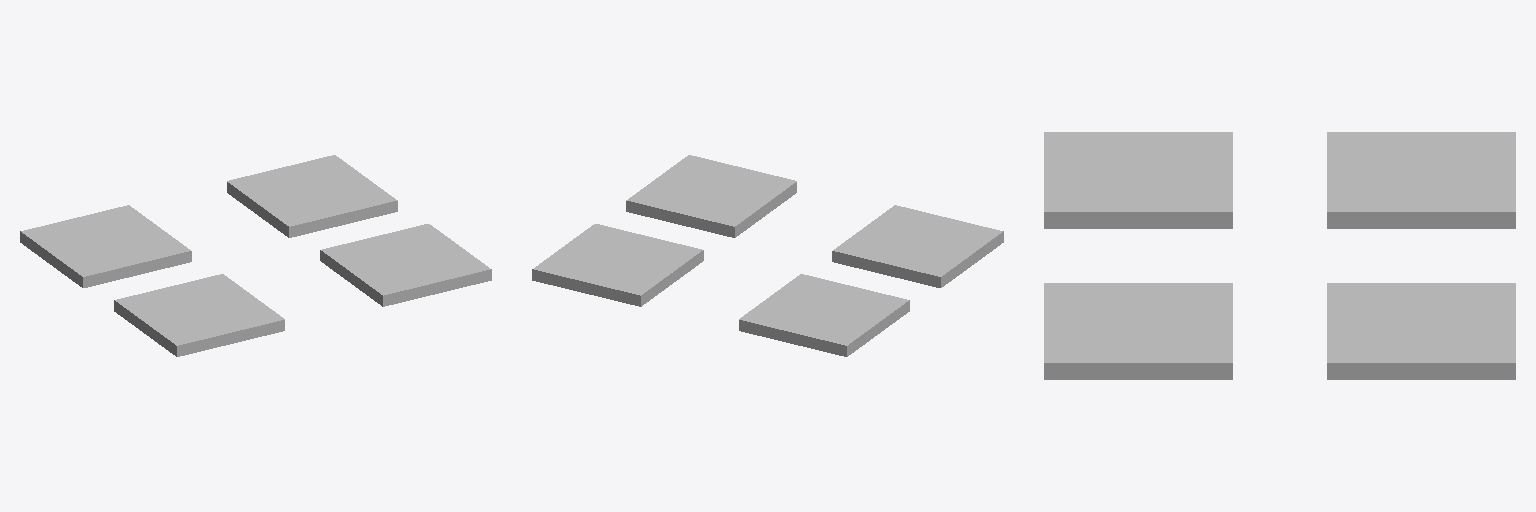
The robot description file, URDF, robot "plane":
<?xml version="1.0" ?>
<!-- =================================================================================== -->
<!-- |    This document was autogenerated by xacro from plane_with_restitution.urdf.xacro | -->
<!-- |    EDITING THIS FILE BY HAND IS NOT RECOMMENDED                                 | -->
<!-- =================================================================================== -->
<robot name="plane">
  <link name="planeLink">
    <contact>
      <lateral_friction value="1000.0"/>
      <restitution value="0.0"/>
    </contact>
    <inertial>
      <origin rpy="0 0 0" xyz="0 0 0"/>
      <mass value=".0"/>
      <inertia ixx="0" ixy="0" ixz="0" iyy="0" iyz="0" izz="0"/>
    </inertial>
    <visual>
      <origin rpy="0 0 0" xyz="0.0 0.0 -0.5"/>
      <geometry>
        <mesh filename="meshes/plane.obj" scale="1 1 1"/>
      </geometry>
      <material name="white">
        <color rgba="1 1 1 1"/>
      </material>
    </visual>
    <collision>
      <origin rpy="0 0 0" xyz="0.0 0.0 -5.5"/>
      <geometry>
        <box size="30 30 10"/>
      </geometry>
    </collision>
  </link>
    <joint name="disk_joint_000" type="prismatic">
    <parent link="planeLink"/>
    <child link="disk_link_000"/>
    <limit effort="1000" lower="-10" upper="10" velocity="100000"/>
    <axis xyz="0 0 1"/>
    <origin rpy="0 0 0" xyz="0.19 0.15 0"/>
  </joint>
  <link name="disk_link_000">
    <contact>
        <lateral_friction value="1000.0"/>
        <restitution value="0.0"/>
    </contact>
    <inertial>
      <origin rpy="0 0 0" xyz="0 0 0"/>
       <mass value="1.0"/>
       <inertia ixx="0" ixy="0" ixz="0" iyy="0" iyz="0" izz="0"/>
    </inertial>
    <collision>
      <origin rpy="0 0 0" xyz="0 0 -0.01"/>
      <geometry>
        <box size="0.2 0.2 0.02"/>
      </geometry>
      <material name="white">
        <color rgba="1 1 1 1"/>
      </material>
    </collision>
    <visual>
      <origin rpy="0 0 0" xyz="0 0 -0.01"/>
      <geometry>
        <box size="0.2 0.2 0.02"/>
      </geometry>
      <material name="grey">
        <color rgba="0.8 0.8 0.8 1.0"/>
      </material>
    </visual>
  </link>
  <joint name="disk_joint_001" type="prismatic">
    <parent link="planeLink"/>
    <child link="disk_link_001"/>
    <limit effort="1000" lower="-10" upper="10" velocity="100000"/>
    <axis xyz="0 0 1"/>
    <origin rpy="0 0 0" xyz="0.19 -0.15 0"/>
  </joint>
  <link name="disk_link_001">
    <contact>
        <lateral_friction value="1000.0"/>
        <restitution value="0.0"/>
    </contact>
    <inertial>
      <origin rpy="0 0 0" xyz="0 0 0"/>
       <mass value="1.0"/>
       <inertia ixx="0" ixy="0" ixz="0" iyy="0" iyz="0" izz="0"/>
    </inertial>
    <collision>
      <origin rpy="0 0 0" xyz="0 0 -0.01"/>
      <geometry>
        <box size="0.2 0.2 0.02"/>
      </geometry>
      <material name="white">
        <color rgba="1 1 1 1"/>
      </material>
    </collision>
    <visual>
      <origin rpy="0 0 0" xyz="0 0 -0.01"/>
      <geometry>
        <box size="0.2 0.2 0.02"/>
      </geometry>
      <material name="grey">
        <color rgba="0.8 0.8 0.8 1.0"/>
      </material>
    </visual>
  </link>
  <joint name="disk_joint_002" type="prismatic">
    <parent link="planeLink"/>
    <child link="disk_link_002"/>
    <limit effort="1000" lower="-10" upper="10" velocity="100000"/>
    <axis xyz="0 0 1"/>
    <origin rpy="0 0 0" xyz="-0.19 0.15 0"/>
  </joint>
  <link name="disk_link_002">
    <contact>
        <lateral_friction value="1000.0"/>
        <restitution value="0.0"/>
    </contact>
    <inertial>
      <origin rpy="0 0 0" xyz="0 0 0"/>
       <mass value="1.0"/>
       <inertia ixx="0" ixy="0" ixz="0" iyy="0" iyz="0" izz="0"/>
    </inertial>
    <collision>
      <origin rpy="0 0 0" xyz="0 0 -0.01"/>
      <geometry>
        <box size="0.2 0.2 0.02"/>
      </geometry>
      <material name="white">
        <color rgba="1 1 1 1"/>
      </material>
    </collision>
    <visual>
      <origin rpy="0 0 0" xyz="0 0 -0.01"/>
      <geometry>
        <box size="0.2 0.2 0.02"/>
      </geometry>
      <material name="grey">
        <color rgba="0.8 0.8 0.8 1.0"/>
      </material>
    </visual>
  </link>
  <joint name="disk_joint_003" type="prismatic">
    <parent link="planeLink"/>
    <child link="disk_link_003"/>
    <limit effort="1000" lower="-10" upper="10" velocity="100000"/>
    <axis xyz="0 0 1"/>
    <origin rpy="0 0 0" xyz="-0.19 -0.15 0"/>
  </joint>
  <link name="disk_link_003">
    <contact>
        <lateral_friction value="1000.0"/>
        <restitution value="0.0"/>
    </contact>
    <inertial>
      <origin rpy="0 0 0" xyz="0 0 0"/>
       <mass value="1.0"/>
       <inertia ixx="0" ixy="0" ixz="0" iyy="0" iyz="0" izz="0"/>
    </inertial>
    <collision>
      <origin rpy="0 0 0" xyz="0 0 -0.01"/>
      <geometry>
        <box size="0.2 0.2 0.02"/>
      </geometry>
      <material name="white">
        <color rgba="1 1 1 1"/>
      </material>
    </collision>
    <visual>
      <origin rpy="0 0 0" xyz="0 0 -0.01"/>
      <geometry>
        <box size="0.2 0.2 0.02"/>
      </geometry>
      <material name="grey">
        <color rgba="0.8 0.8 0.8 1.0"/>
      </material>
    </visual>
  </link>
</robot>

--- What the picture shows (computed from the rendered views, not written in the file) ---
Views: 3 orthographic renders of the robot side by side, from view 1: azimuth 30°, elevation 25°; view 2: azimuth 150°, elevation 25°; view 3: azimuth 270°, elevation 25°.
Robot: plane — 5 links, 4 joints (4 prismatic); root link planeLink; default pose: every joint at zero.
Links seen in each view (by area): view 1: disk_link_001, disk_link_002, disk_link_000, disk_link_003; view 2: disk_link_000, disk_link_003, disk_link_001, disk_link_002; view 3: disk_link_000, disk_link_001, disk_link_002, disk_link_003.
Boxes of the visible links, x1,y1,x2,y2 form: disk_link_001: (320,224,491,306); disk_link_002: (20,205,191,287); disk_link_000: (227,155,397,237); disk_link_003: (114,274,284,356); disk_link_000: (532,224,703,306); disk_link_003: (832,205,1003,287); disk_link_001: (626,155,796,237); disk_link_002: (739,274,909,356); disk_link_000: (1327,283,1515,379); disk_link_001: (1044,283,1232,379); disk_link_002: (1327,132,1515,228); disk_link_003: (1044,132,1232,228).
Size in the robot's own frame: 0.58 by 0.5 by 0.02 metres.
0 mesh visuals loaded from 1 distinct referenced files (none loaded); not drawn: 1 (reference not matched to a file when rendering).
